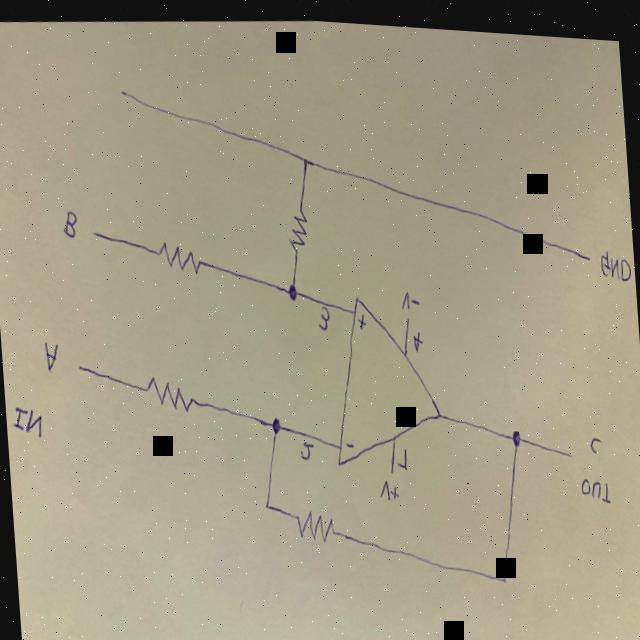junction: (260, 402, 290, 442), (277, 269, 303, 306), (292, 140, 321, 172), (502, 416, 528, 450), (492, 555, 515, 589), (256, 487, 276, 515)
resistor: (134, 368, 206, 417), (152, 230, 210, 278), (286, 500, 340, 544), (285, 196, 313, 255)
terminal: (108, 82, 150, 107), (554, 436, 580, 461), (86, 222, 111, 247), (72, 357, 98, 379), (572, 238, 594, 264)
text: (8, 400, 46, 442), (598, 239, 632, 279), (578, 468, 612, 499), (41, 338, 63, 375), (59, 206, 81, 239), (312, 300, 332, 335), (377, 473, 401, 501), (398, 284, 422, 307), (409, 322, 426, 350), (586, 424, 604, 449), (396, 441, 412, 468), (298, 436, 315, 459), (356, 307, 369, 329), (343, 431, 355, 449)
